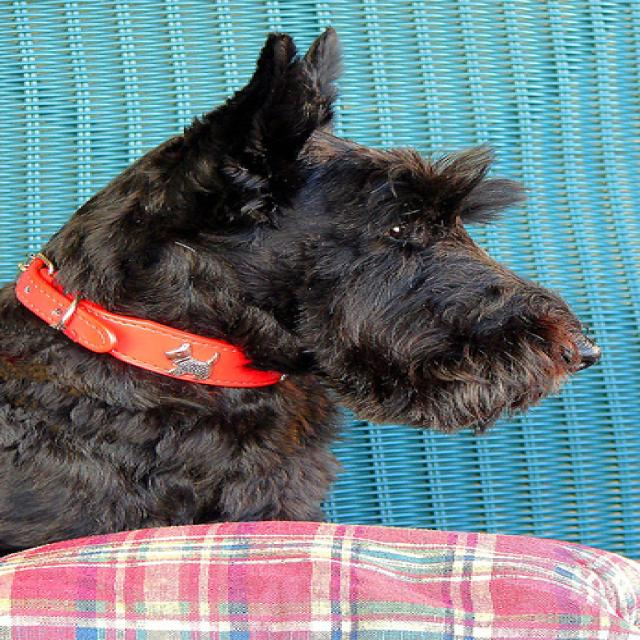dog-scottish_terrier: (2, 14, 614, 573)
